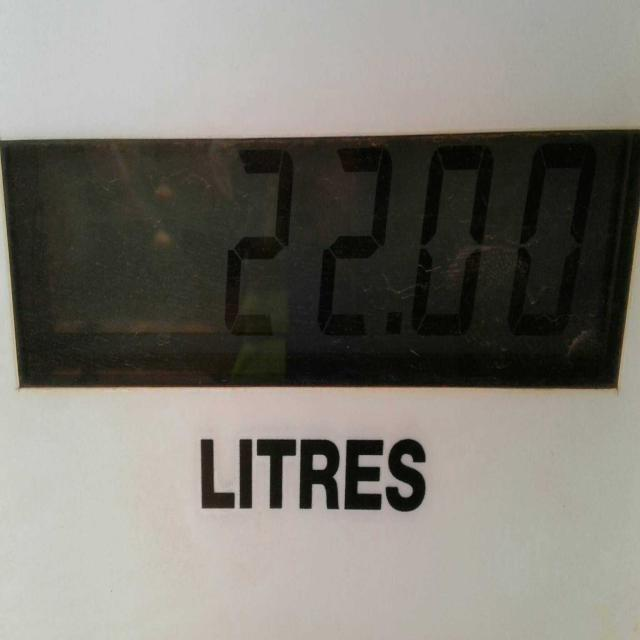.: (388, 309, 403, 334)
0: (508, 146, 588, 337), (416, 146, 491, 336)
2: (322, 152, 386, 336), (233, 142, 288, 335)
